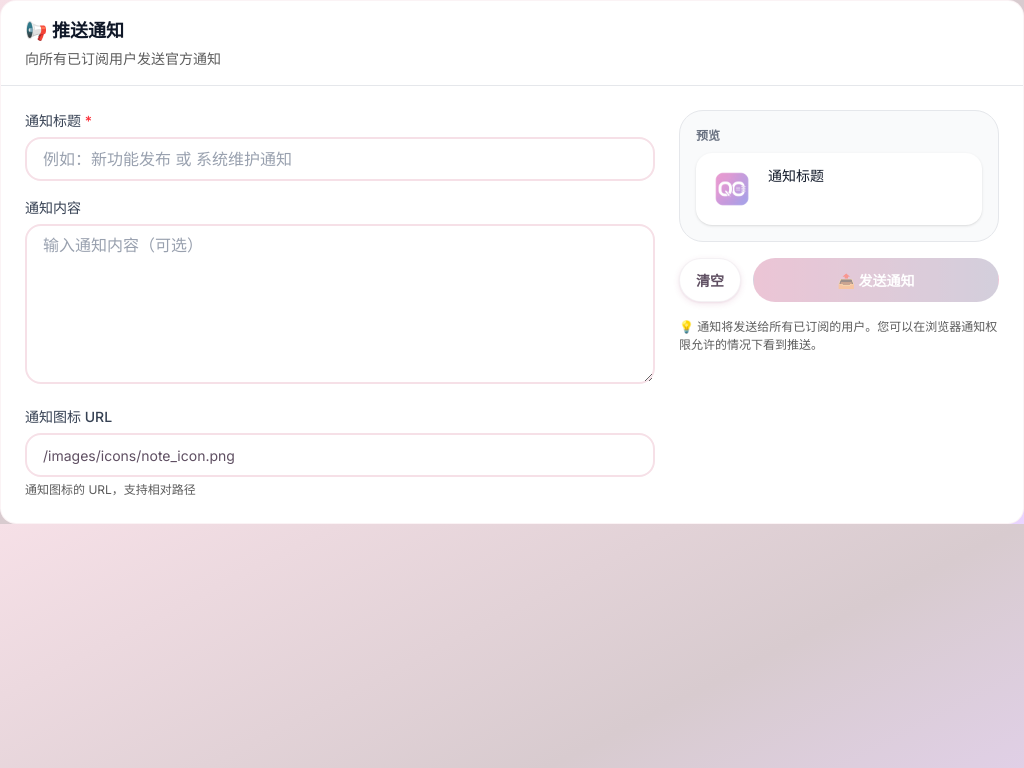
Test case: PushNotificationManager › reports the counts when the notification went out
Step 1. Type "维护通知" into the field with placeholder "例如：新功能发布 或 系统维护通知" → (340, 159), box [25, 137, 655, 181]
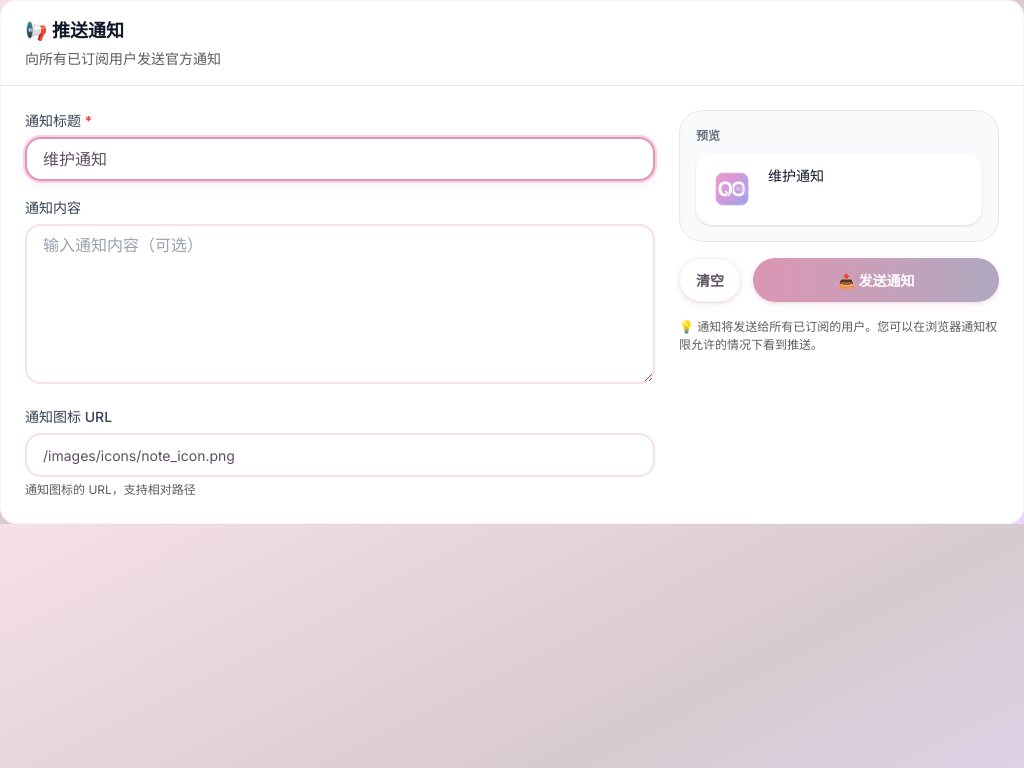
Step 2. Click the button "📤 发送通知" → (876, 280), box [753, 258, 999, 302]
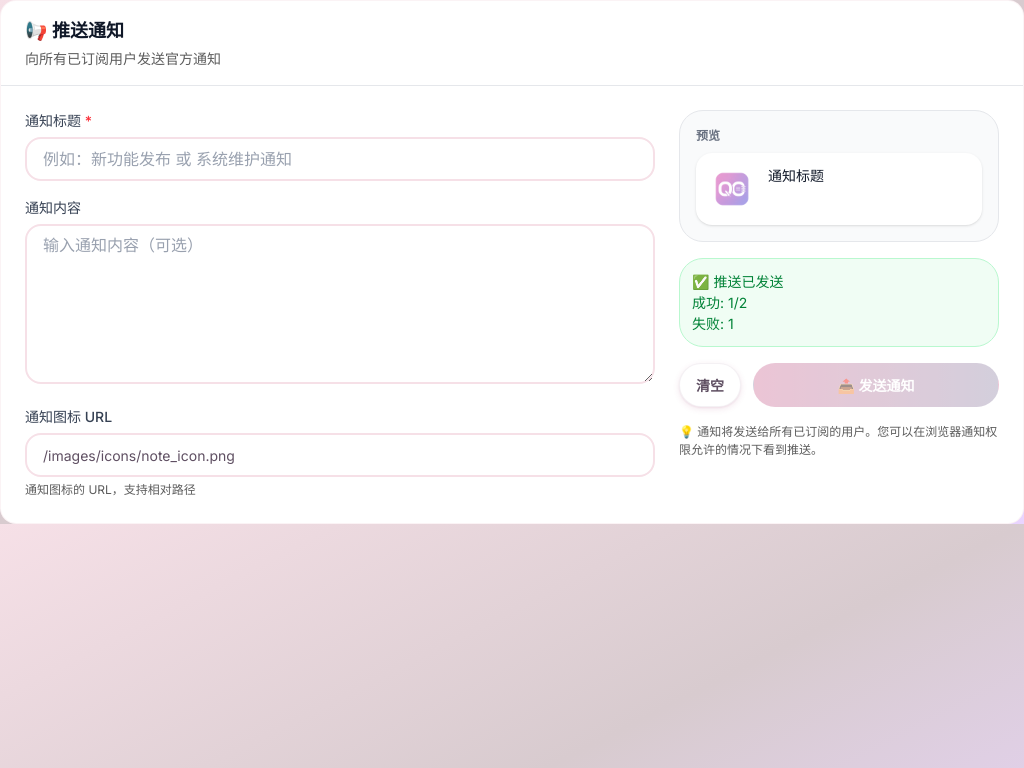
Check: the text "✅ 推送已发送 成功: 1/2 失败: 1" is shown, box [679, 258, 999, 347]
